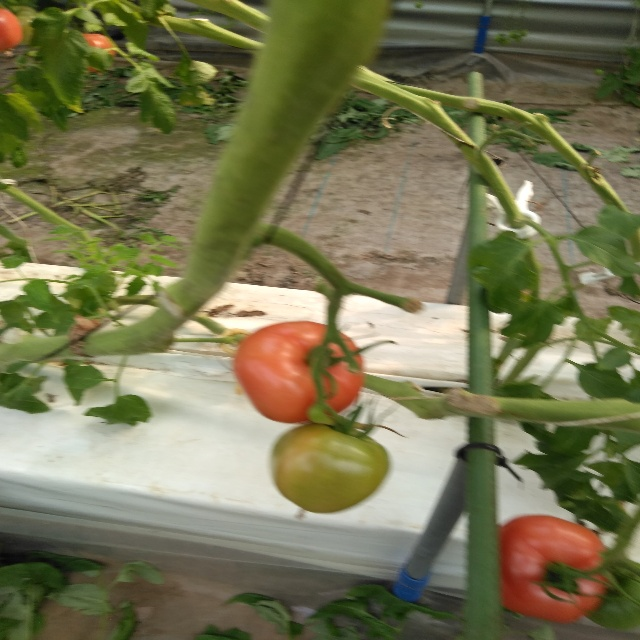b_fully_ripened: (234, 321, 363, 423), (499, 515, 610, 623)
b_green: (270, 421, 391, 514)
